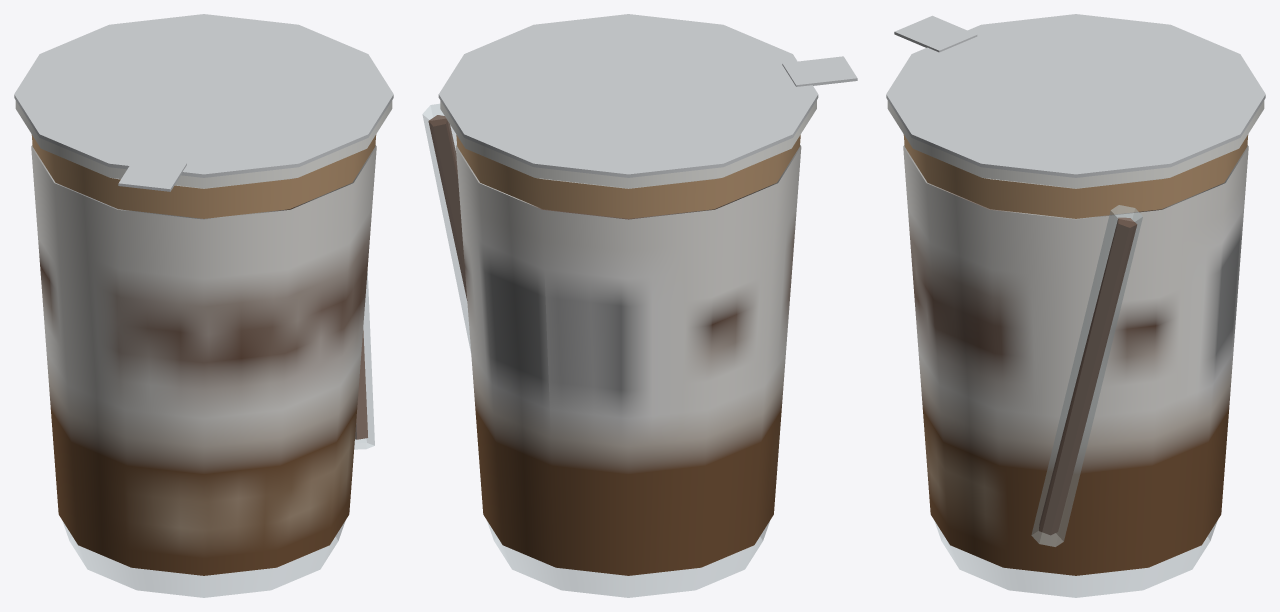
File: SC_Prod_Coffee_Cup.gltf
The picture shows the model from 3 angles, left to right: view 1: azimuth 30°, elevation 25°; view 2: azimuth 150°, elevation 25°; view 3: azimuth 270°, elevation 25°; orthographic projection.
Visible parts, largest first — view 1: SC_Prod_Coffee_Cup; view 2: SC_Prod_Coffee_Cup; view 3: SC_Prod_Coffee_Cup.
Part boxes in pixels (x1,y1,x2,y2): SC_Prod_Coffee_Cup: (14, 14, 393, 597); SC_Prod_Coffee_Cup: (422, 14, 857, 597); SC_Prod_Coffee_Cup: (886, 14, 1265, 597).
Bounding box in the file's own units: 0.0805 × 0.1012 × 0.0776.
Materials: 3 (3 with a texture image).
